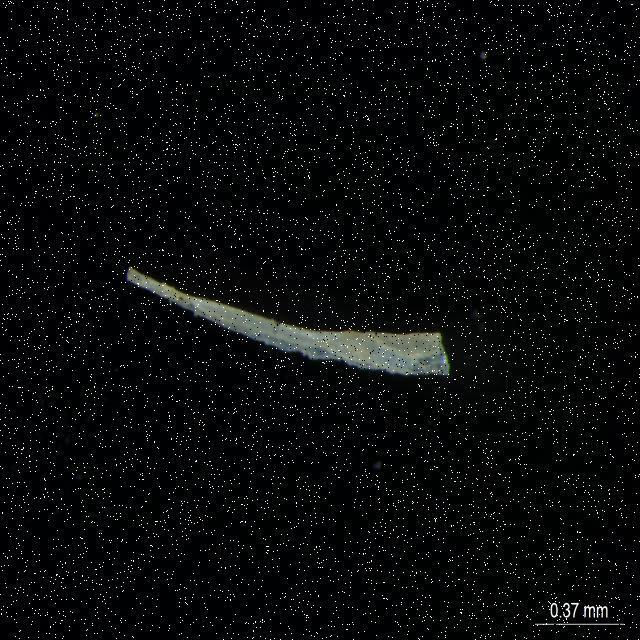Fibre: (121, 260, 455, 380)
